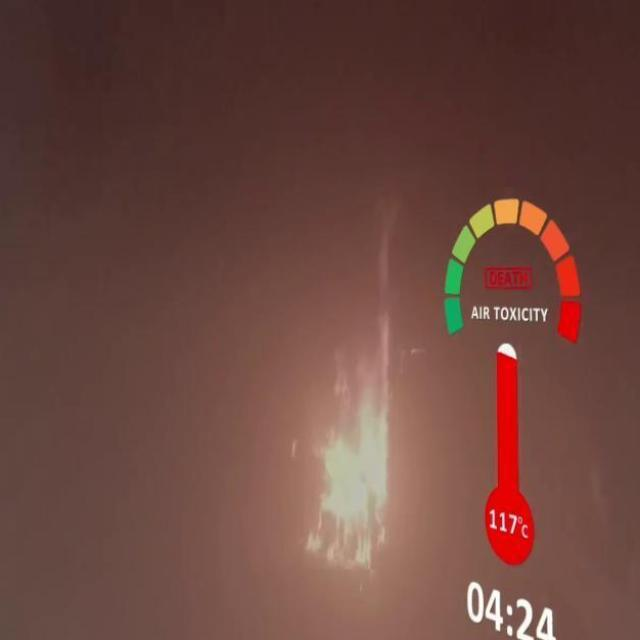smoke: (305, 392, 396, 569)
